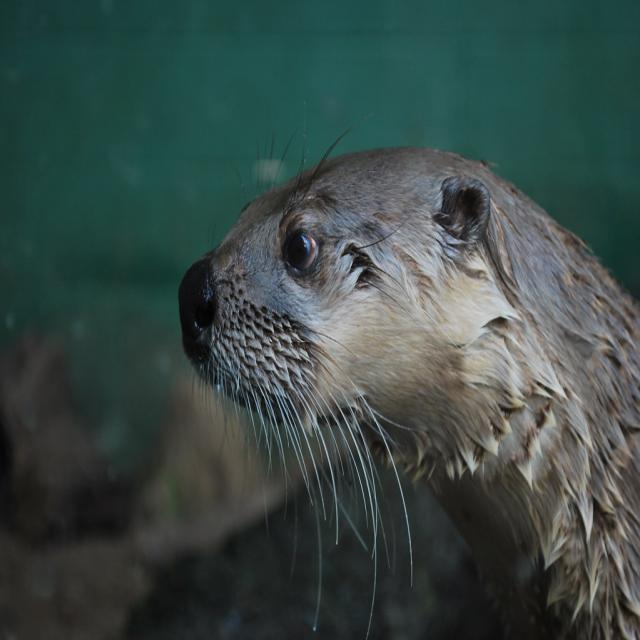otter: (181, 144, 640, 640)
